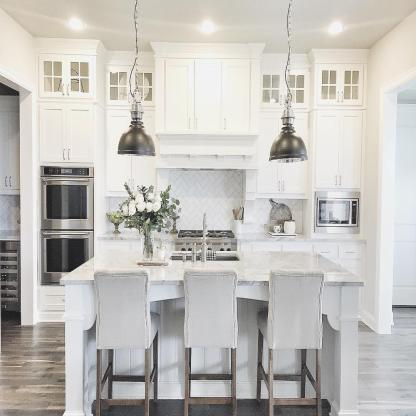chair: (88, 267, 164, 416), (257, 267, 326, 416), (178, 267, 246, 416)
